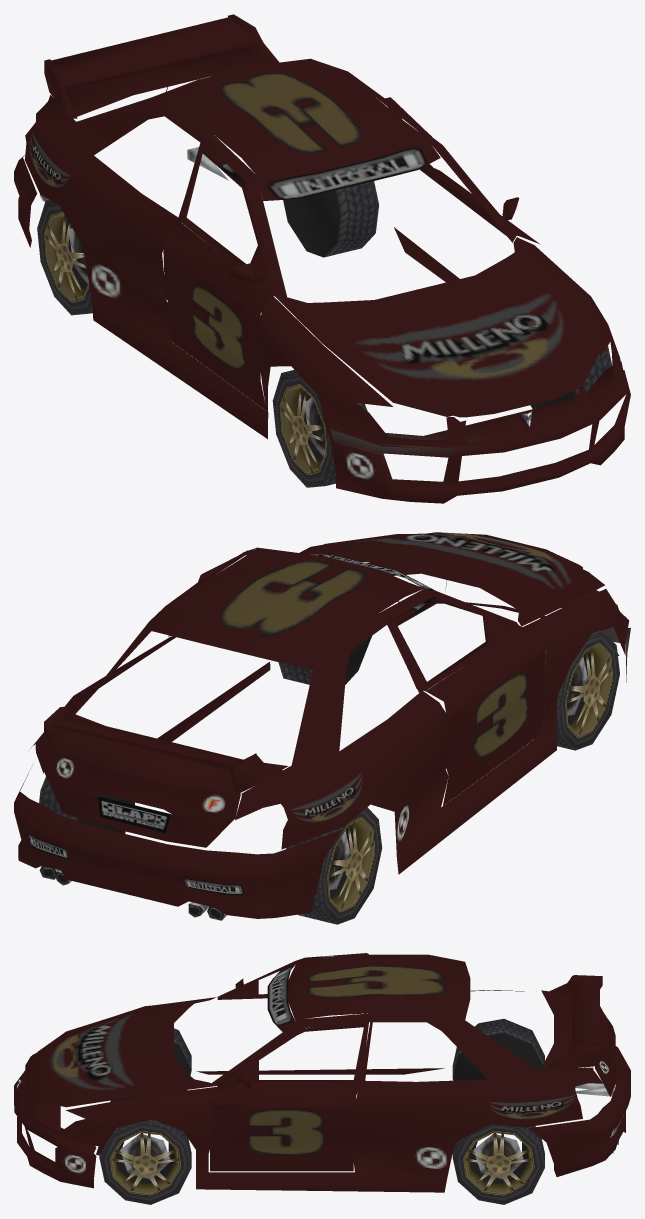
File: car-CUPE_Car6.glb
3 renders of one model, top to bottom at view 1: azimuth 30°, elevation 25°; view 2: azimuth 150°, elevation 25°; view 3: azimuth 270°, elevation 25°, orthographic. The views are drawn at different scales.
Parts seen in each view (by area): view 1: CUPE_Car6; view 2: CUPE_Car6; view 3: CUPE_Car6.
Boxes of the visible parts, x1=… form: CUPE_Car6: x1=14, y1=14, x2=630, y2=503; CUPE_Car6: x1=14, y1=532, x2=630, y2=924; CUPE_Car6: x1=14, y1=953, x2=630, y2=1204.
Bounding box in the file's own units: 1.9 × 1.37 × 4.41.
19 materials, 19 textured.
